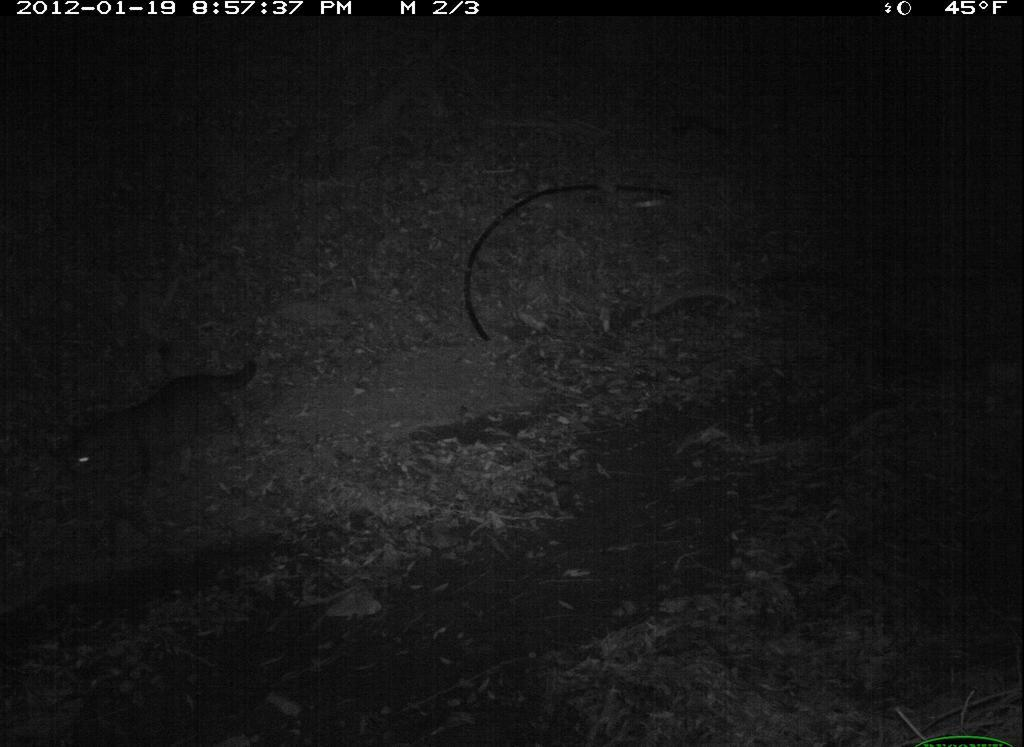cat: (63, 355, 269, 515)
